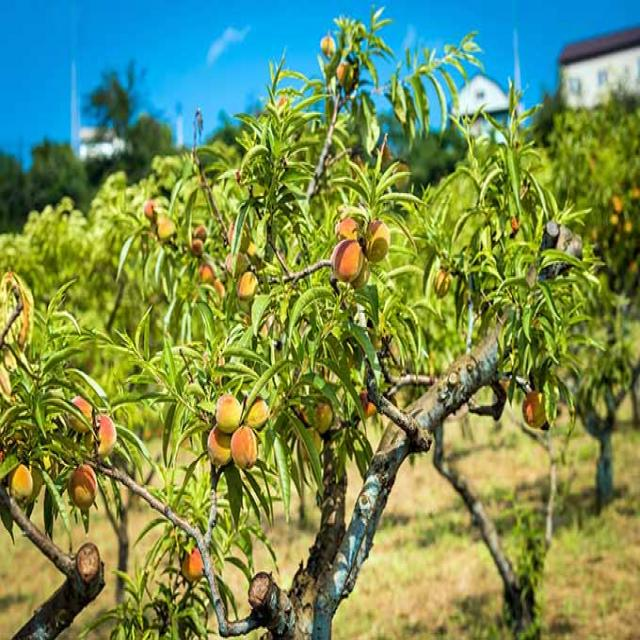Peach: (0, 76, 532, 639)
